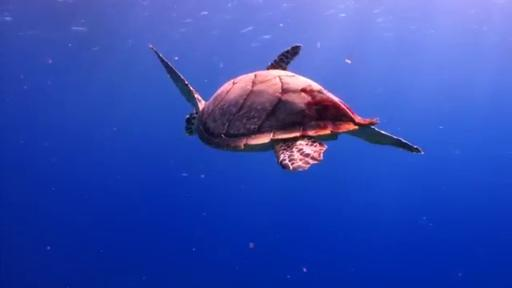Fish: (150, 45, 422, 170)
